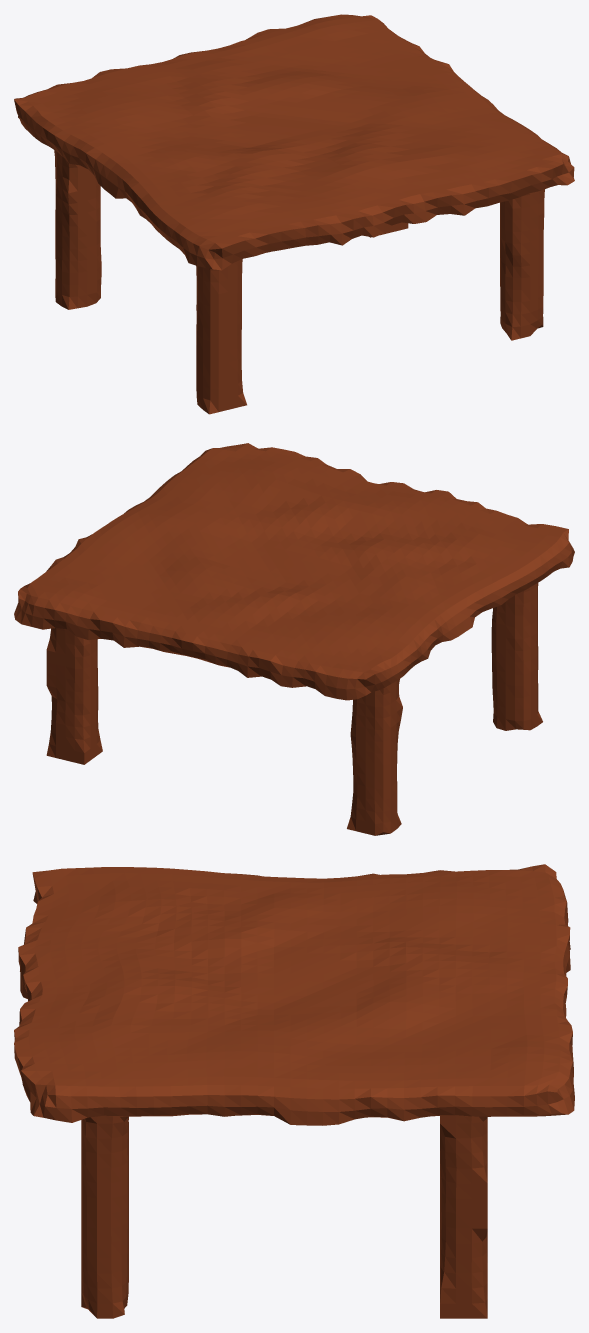
The model's file is table.glb.
The picture shows the model from 3 angles, top to bottom: view 1: azimuth 30°, elevation 25°; view 2: azimuth 150°, elevation 25°; view 3: azimuth 270°, elevation 25°; orthographic projection. The views are drawn at different scales.
Visible parts, largest first — view 1: Top; view 2: Top; view 3: Top.
Part boxes in pixels (<box>): Top: <box>14,14,574,414</box>; Top: <box>14,443,574,835</box>; Top: <box>14,864,574,1318</box>.
Size of the model in its own units: 1.02 by 0.4916 by 1.03.
